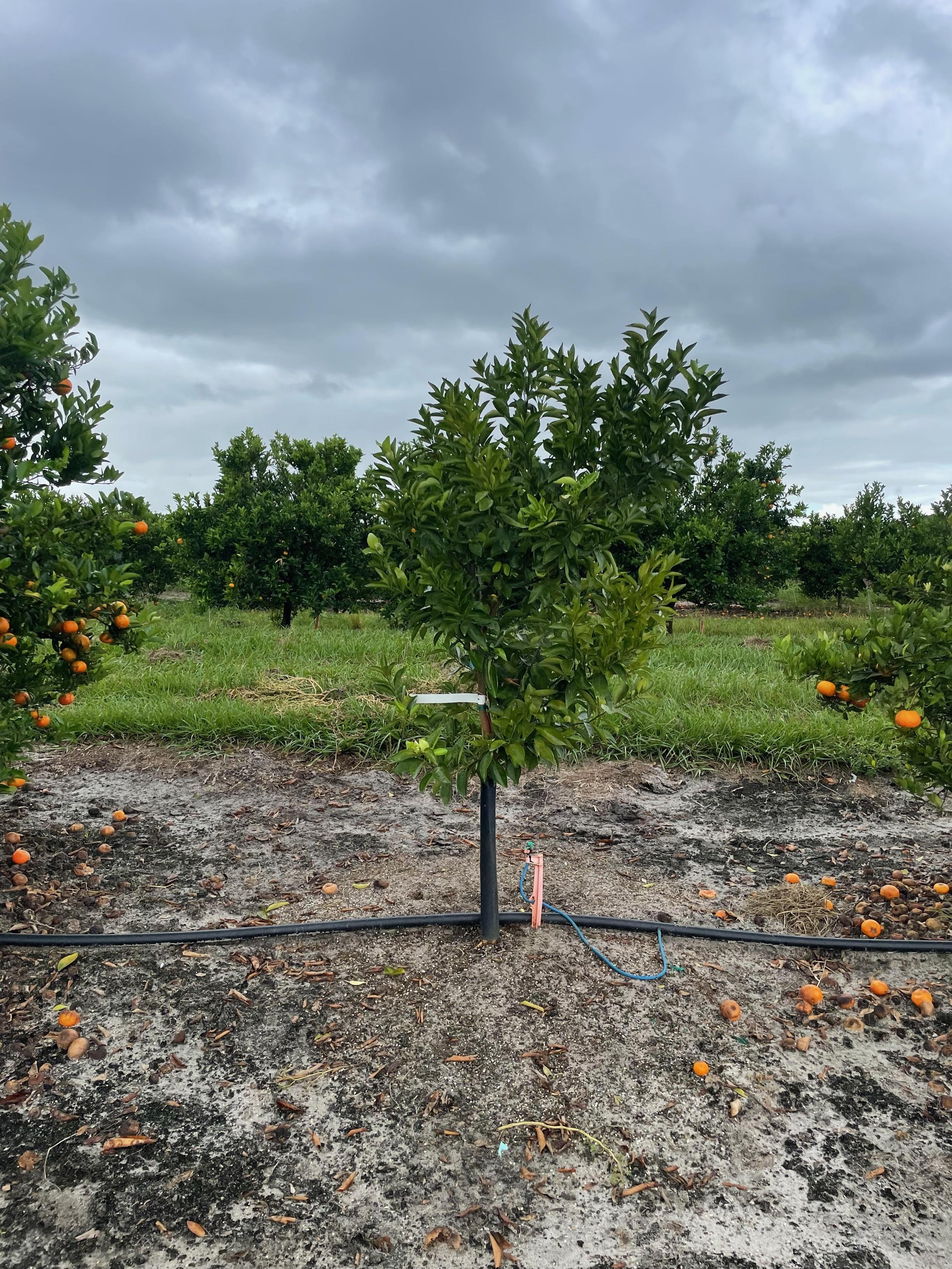fruit_on_ground: (892, 706, 923, 731), (49, 374, 77, 398), (848, 689, 873, 709), (815, 678, 838, 699), (834, 681, 854, 704), (70, 633, 91, 652), (0, 631, 19, 651), (69, 657, 90, 675), (60, 645, 79, 663), (0, 434, 18, 452), (109, 600, 128, 617), (60, 619, 79, 636), (11, 690, 30, 707), (112, 612, 130, 629), (57, 690, 76, 706), (131, 519, 149, 535), (84, 605, 102, 620), (98, 630, 115, 645), (0, 615, 13, 634), (73, 617, 87, 633), (35, 715, 51, 729), (175, 536, 185, 546), (227, 581, 235, 589), (775, 477, 782, 484), (760, 482, 767, 489), (767, 533, 774, 540), (283, 550, 289, 556), (768, 503, 774, 509), (779, 530, 785, 535), (763, 576, 767, 580)
fruit_on_tree: (64, 1035, 91, 1061), (718, 998, 743, 1023), (798, 982, 824, 1005), (860, 918, 884, 939), (56, 1008, 81, 1028), (842, 1014, 865, 1034), (57, 1027, 80, 1047), (909, 987, 933, 1006), (836, 992, 857, 1010), (10, 847, 31, 865), (692, 1058, 711, 1077), (880, 882, 900, 900), (869, 977, 889, 995), (7, 774, 28, 789), (918, 1000, 936, 1017), (11, 872, 30, 888), (320, 880, 339, 896), (697, 886, 718, 900), (794, 1000, 812, 1016), (4, 830, 21, 845), (783, 870, 800, 885), (96, 834, 112, 849), (924, 916, 941, 930), (933, 879, 950, 893), (67, 820, 85, 833), (852, 907, 866, 923), (852, 901, 868, 915), (96, 841, 112, 855), (111, 808, 127, 822), (98, 824, 115, 837), (821, 897, 836, 911), (889, 867, 905, 880), (821, 874, 837, 887), (74, 847, 89, 860), (714, 907, 728, 919), (855, 839, 869, 851)
